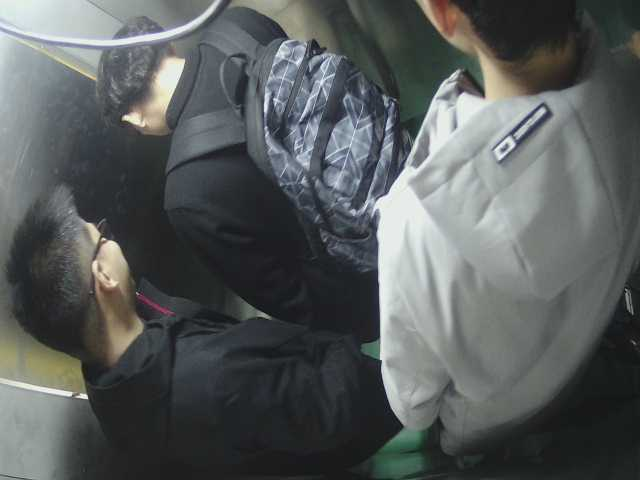bag: (227, 22, 412, 282)
person: (374, 1, 638, 448), (93, 7, 445, 342), (11, 191, 420, 473)
